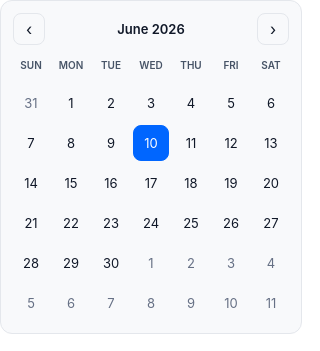
Test case: Calendar › prev/next changes the displayed month (uncontrolled)
The width and height of the screenshot is (320, 351).
expect the text "June 2026" is shown: met, box [117, 21, 185, 37]
Click the button named "Next month": (273, 29) [257, 13, 289, 45]
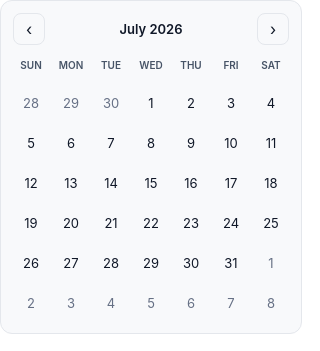
expect the text "July 2026" is shown: met, box [120, 21, 182, 37]
Click the button named "Previous month": (29, 29) [13, 13, 45, 45]
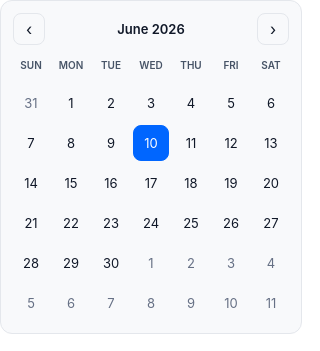
Click the button named "Previous month": (29, 29) [13, 13, 45, 45]
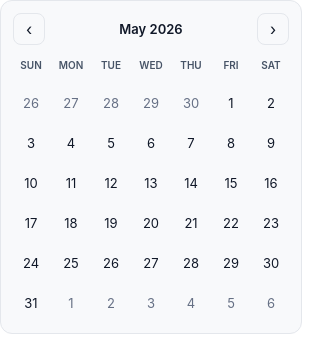
expect the text "May 2026" is shown: met, box [119, 21, 183, 37]
